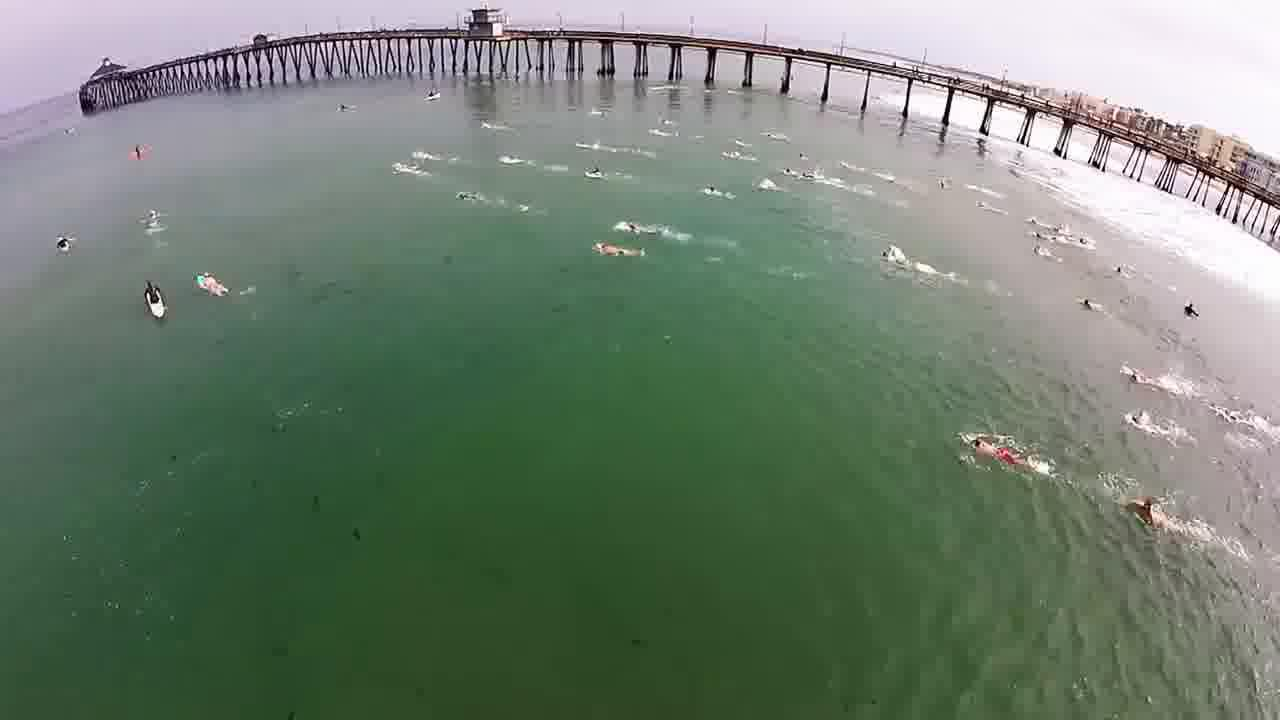swimmer: (967, 418, 1011, 471), (583, 237, 641, 264), (1179, 286, 1205, 329), (130, 273, 166, 302), (1130, 486, 1158, 523), (1069, 289, 1104, 318), (193, 264, 225, 295)
